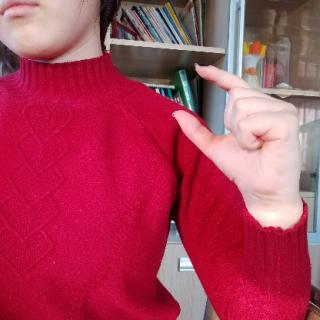DELL: (171, 59, 309, 210)
